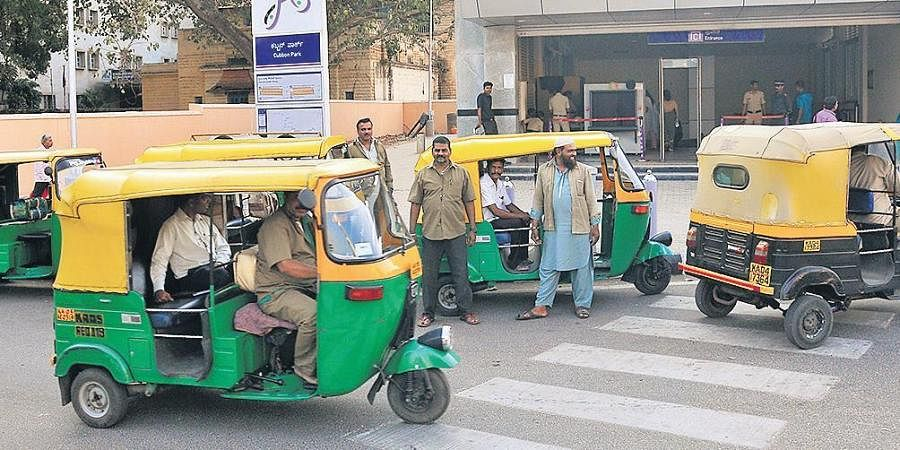rickshaw: (41, 157, 464, 432), (687, 113, 898, 349), (415, 124, 681, 308), (3, 145, 97, 266)
